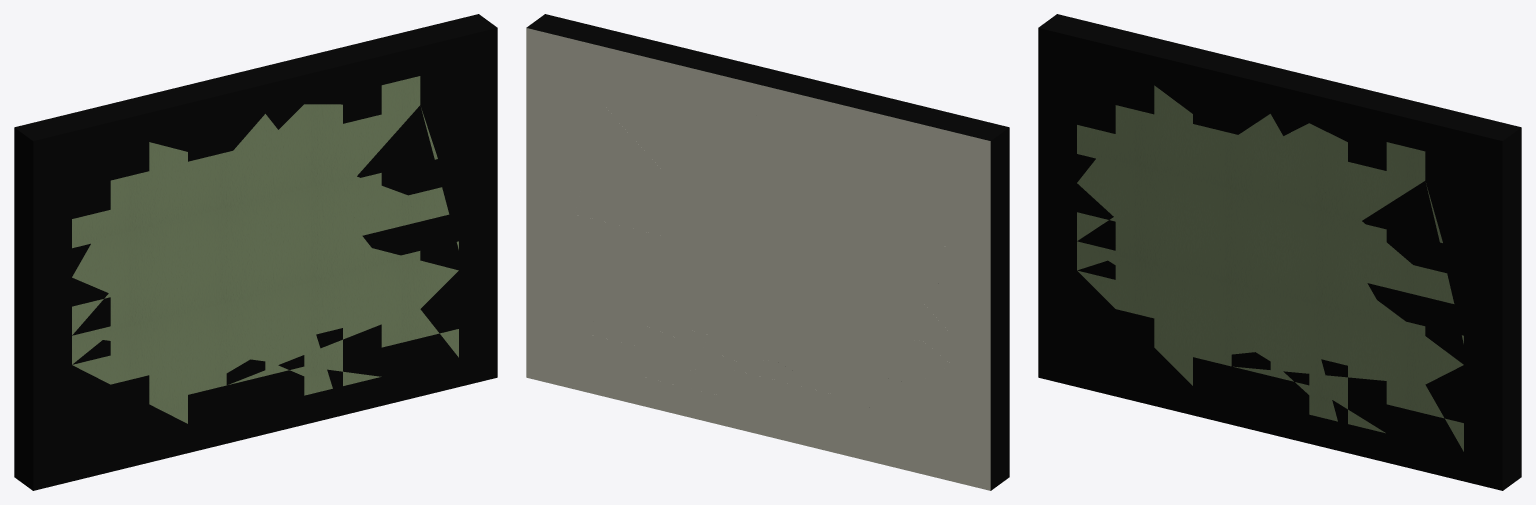
File: wall_withTex.fbx
The picture shows the model from 3 angles, left to right: view 1: azimuth 30°, elevation 25°; view 2: azimuth 150°, elevation 25°; view 3: azimuth 330°, elevation 25°; orthographic projection.
Parts seen in each view (by area): view 1: Wall, polySurface45, polySurface6, polySurface42, polySurface30, polySurface10, polySurface8, polySurface17, polySurface12, polySurface44, polySurface36, polySurface11 (+23 smaller); view 2: Wall, polySurface45, polySurface6, polySurface42, polySurface30, polySurface10, polySurface8, polySurface17, polySurface12, polySurface44, polySurface36, polySurface11 (+23 smaller); view 3: Wall, polySurface45, polySurface6, polySurface42, polySurface30, polySurface10, polySurface8, polySurface17, polySurface12, polySurface44, polySurface36, polySurface11 (+23 smaller).
Boxes of the visible parts, x1=… form: Wall: x1=14, y1=14, x2=497, y2=490; polySurface45: x1=72, y1=108, x2=437, y2=385; polySurface6: x1=110, y1=314, x2=226, y2=423; polySurface42: x1=307, y1=114, x2=400, y2=322; polySurface30: x1=308, y1=178, x2=458, y2=289; polySurface10: x1=265, y1=124, x2=342, y2=198; polySurface8: x1=188, y1=240, x2=265, y2=321; polySurface17: x1=72, y1=210, x2=148, y2=277; polySurface12: x1=119, y1=184, x2=187, y2=257; polySurface44: x1=149, y1=152, x2=226, y2=270; polySurface36: x1=226, y1=104, x2=342, y2=171; polySurface11: x1=290, y1=231, x2=342, y2=307; Wall: x1=526, y1=14, x2=1009, y2=490; polySurface45: x1=586, y1=108, x2=951, y2=385; polySurface6: x1=797, y1=314, x2=913, y2=423; polySurface42: x1=623, y1=114, x2=716, y2=322; polySurface30: x1=565, y1=178, x2=715, y2=288; polySurface10: x1=681, y1=124, x2=758, y2=198; polySurface8: x1=758, y1=240, x2=835, y2=321; polySurface17: x1=875, y1=210, x2=951, y2=277; polySurface12: x1=836, y1=184, x2=904, y2=257; polySurface44: x1=797, y1=152, x2=874, y2=270; polySurface36: x1=681, y1=104, x2=797, y2=171; polySurface11: x1=681, y1=231, x2=733, y2=307; Wall: x1=1038, y1=14, x2=1521, y2=490; polySurface45: x1=1077, y1=114, x2=1442, y2=433; polySurface6: x1=1115, y1=254, x2=1231, y2=385; polySurface42: x1=1313, y1=162, x2=1405, y2=345; polySurface30: x1=1313, y1=215, x2=1463, y2=364; polySurface10: x1=1270, y1=143, x2=1347, y2=219; polySurface8: x1=1193, y1=221, x2=1270, y2=302; polySurface17: x1=1077, y1=125, x2=1153, y2=198; polySurface12: x1=1124, y1=116, x2=1192, y2=211; polySurface44: x1=1154, y1=129, x2=1231, y2=233; polySurface36: x1=1231, y1=123, x2=1347, y2=175; polySurface11: x1=1295, y1=252, x2=1347, y2=336.
Size of the model in its own units: 16.8 by 12.09 by 1.19.
